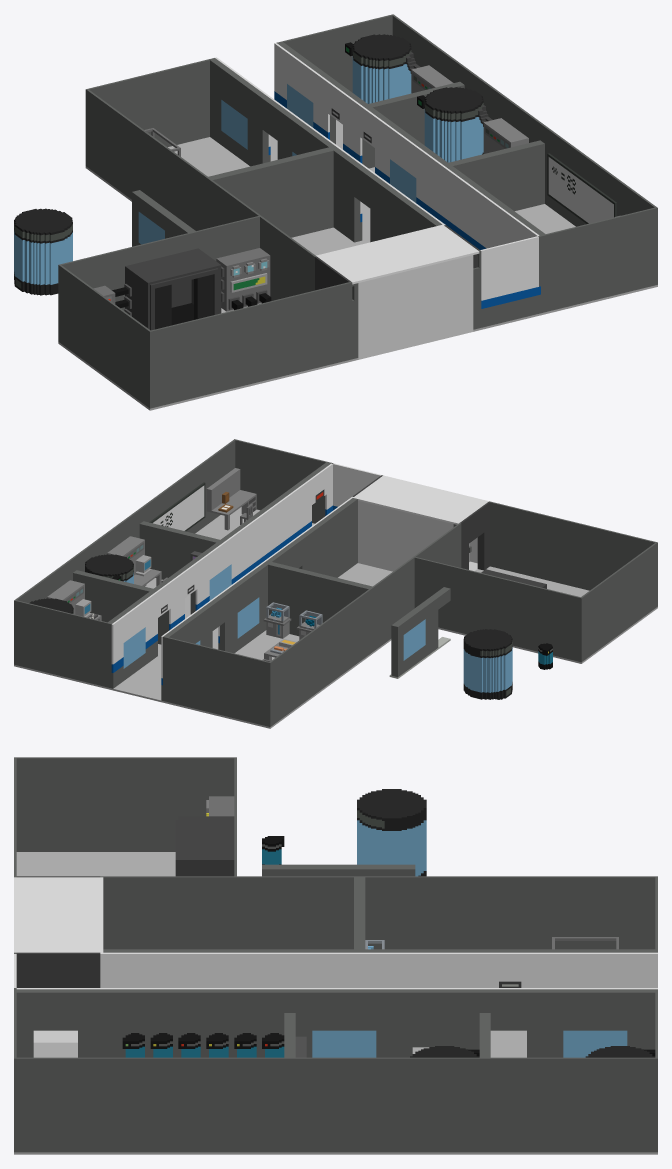
The model's file is laboratorio-6.obj.
3 renders of one model, top to bottom at view 1: azimuth 30°, elevation 25°; view 2: azimuth 150°, elevation 25°; view 3: azimuth 270°, elevation 25°, orthographic. The views are drawn at different scales.
Size of the model in its own units: 25.6 by 3.8 by 23.1.
1 material, 1 textured.
